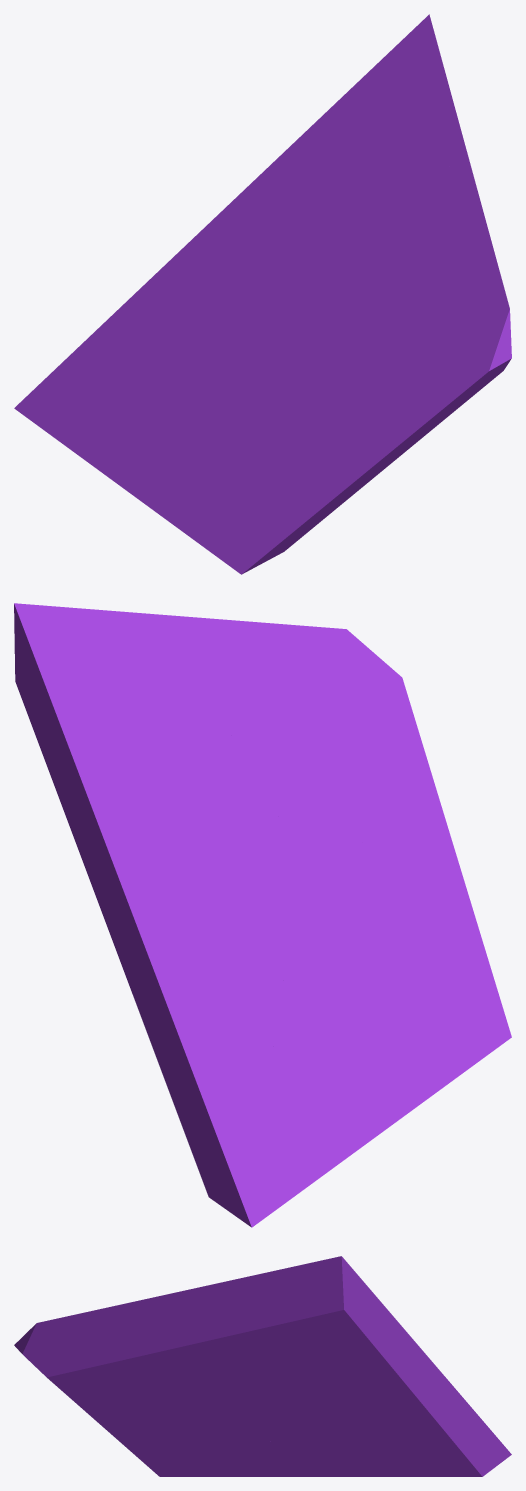
File: Window_116_1_chunks.fbx
The picture shows the model from 3 angles, top to bottom: view 1: azimuth 30°, elevation 25°; view 2: azimuth 150°, elevation 25°; view 3: azimuth 270°, elevation 25°; orthographic projection. The views are drawn at different scales.
Parts seen in each view (by area): view 1: Window_116_1_8, Window_116_1_3, Window_116_1_0, Window_116_1_7, Window_116_1_1, Window_116_1_12, Window_116_1_11, Window_116_1_5, Window_116_1_4, Window_116_1_6, Window_116_1_9; view 2: Window_116_1_8, Window_116_1_7, Window_116_1_3, Window_116_1_0, Window_116_1_5, Window_116_1_1, Window_116_1_12, Window_116_1_11, Window_116_1_4, Window_116_1_6, Window_116_1_9; view 3: Window_116_1_0, Window_116_1_8, Window_116_1_5, Window_116_1_7, Window_116_1_6, Window_116_1_3, Window_116_1_2, Window_116_1_4, Window_116_1_10, Window_116_1_9, Window_116_1_11.
Boxes of the visible parts, x1=… form: Window_116_1_8: x1=278, y1=14, x2=464, y2=324; Window_116_1_3: x1=178, y1=366, x2=392, y2=574; Window_116_1_0: x1=371, y1=145, x2=511, y2=462; Window_116_1_7: x1=20, y1=222, x2=281, y2=402; Window_116_1_1: x1=319, y1=153, x2=459, y2=424; Window_116_1_12: x1=134, y1=365, x2=226, y2=528; Window_116_1_11: x1=14, y1=392, x2=135, y2=495; Window_116_1_5: x1=211, y1=84, x2=355, y2=236; Window_116_1_4: x1=196, y1=339, x2=334, y2=415; Window_116_1_6: x1=238, y1=290, x2=329, y2=355; Window_116_1_9: x1=67, y1=365, x2=195, y2=419; Window_116_1_8: x1=14, y1=603, x2=290, y2=878; Window_116_1_7: x1=139, y1=862, x2=286, y2=1218; Window_116_1_3: x1=336, y1=831, x2=511, y2=1089; Window_116_1_0: x1=161, y1=614, x2=449, y2=832; Window_116_1_5: x1=20, y1=695, x2=181, y2=1010; Window_116_1_1: x1=168, y1=625, x2=410, y2=856; Window_116_1_12: x1=280, y1=991, x2=439, y2=1126; Window_116_1_11: x1=239, y1=1094, x2=388, y2=1227; Window_116_1_4: x1=280, y1=849, x2=343, y2=1005; Window_116_1_6: x1=236, y1=839, x2=301, y2=954; Window_116_1_9: x1=257, y1=1005, x2=311, y2=1161; Window_116_1_0: x1=14, y1=1285, x2=218, y2=1427; Window_116_1_8: x1=207, y1=1256, x2=371, y2=1386; Window_116_1_5: x1=315, y1=1291, x2=432, y2=1416; Window_116_1_7: x1=353, y1=1361, x2=509, y2=1476; Window_116_1_6: x1=217, y1=1386, x2=353, y2=1444; Window_116_1_3: x1=104, y1=1413, x2=214, y2=1476; Window_116_1_2: x1=202, y1=1431, x2=303, y2=1476; Window_116_1_4: x1=177, y1=1404, x2=346, y2=1447; Window_116_1_10: x1=276, y1=1443, x2=373, y2=1476; Window_116_1_9: x1=339, y1=1442, x2=465, y2=1476; Window_116_1_11: x1=362, y1=1452, x2=511, y2=1476.
Bounding box in the file's own units: 567 × 685 × 955.
